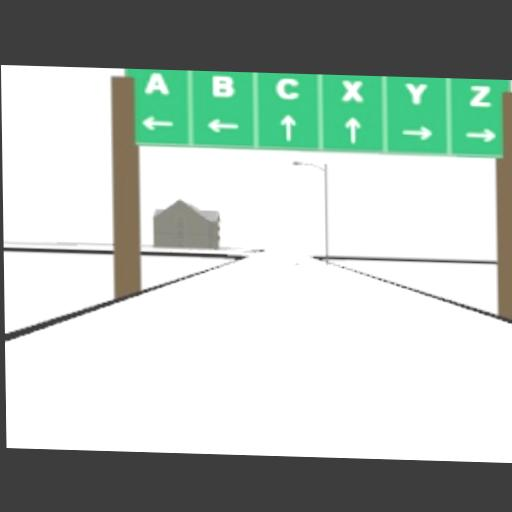A: (144, 70, 168, 93)
B: (210, 74, 234, 95)
C: (276, 76, 299, 97)
Left: (206, 117, 240, 132), (140, 115, 174, 130)
Right: (464, 126, 496, 141), (401, 124, 433, 139)
Straight: (280, 114, 296, 139), (344, 116, 360, 141)
X: (342, 78, 363, 99)
Y: (404, 81, 427, 103)
Z: (469, 83, 492, 105)
